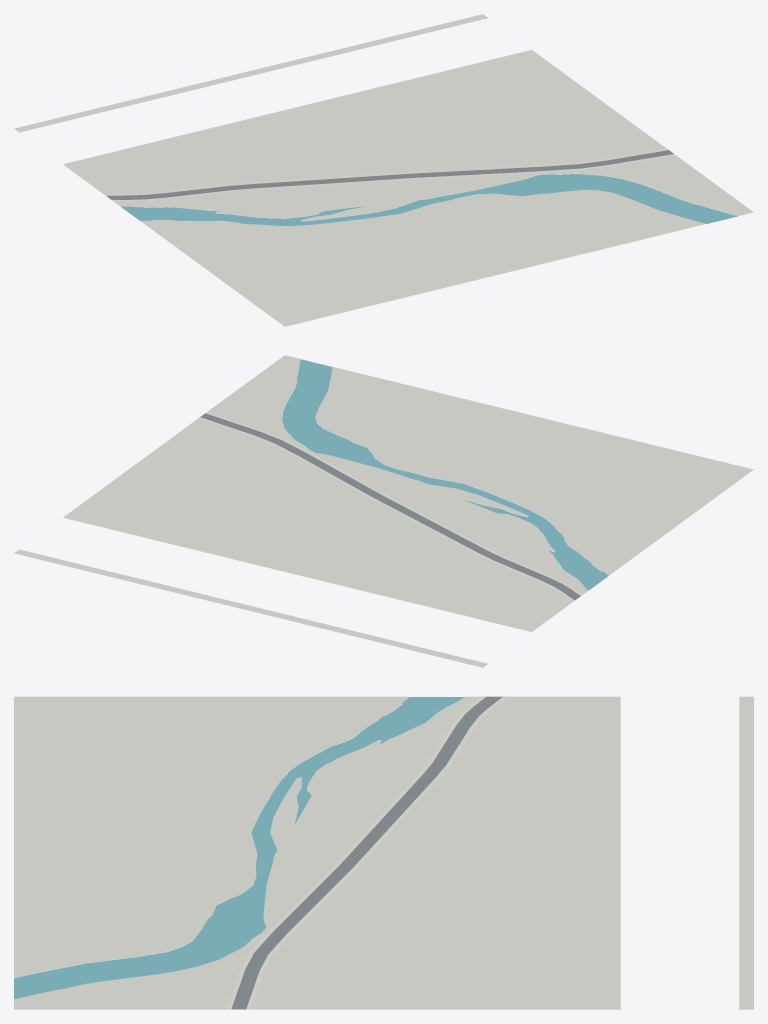
3 views of the same model, one above another, from view 1: azimuth 30°, elevation 25°; view 2: azimuth 150°, elevation 25°; view 3: azimuth 270°, elevation 25° (orthographic). The views are drawn at different scales.
Visible parts, largest first — view 1: city; view 2: city; view 3: city.
Boxes of the visible parts, box(x1,y1,x2,y2) form: city: box(14, 14, 753, 326); city: box(14, 355, 753, 667); city: box(14, 696, 753, 1009).
Size of the model in its own units: 500 by 0.4 by 500.
